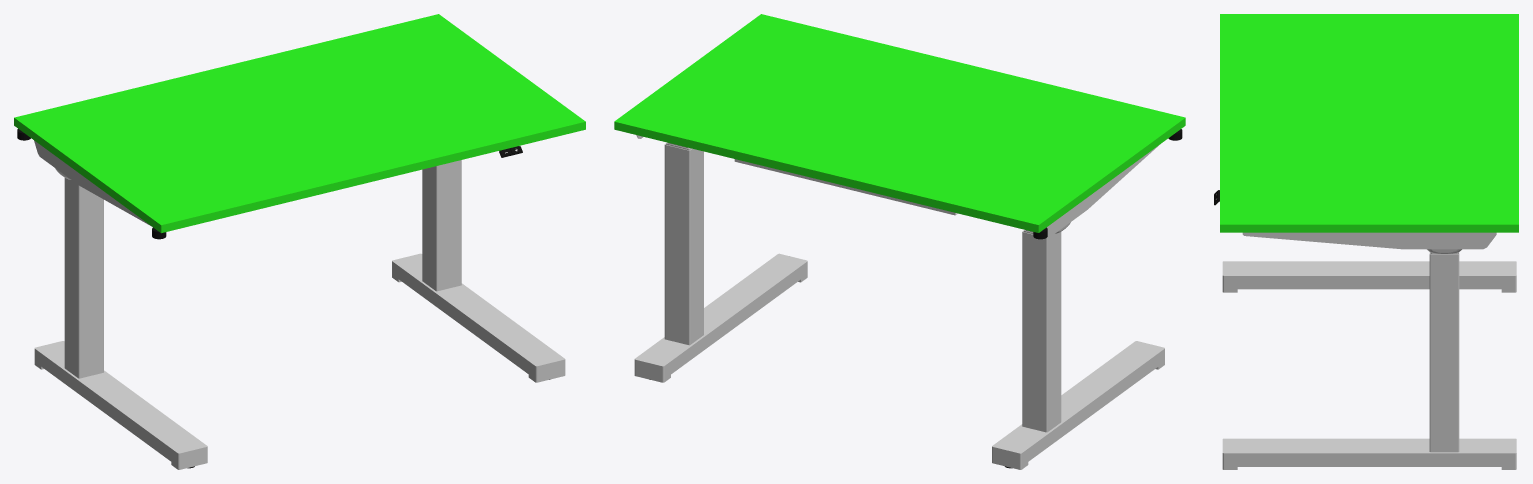
The model's file is Desk_Compact_Drive.fbx.
3 renders of one model, left to right at view 1: azimuth 30°, elevation 25°; view 2: azimuth 150°, elevation 25°; view 3: azimuth 270°, elevation 25°, orthographic.
Parts seen in each view (by area): view 1: a1#blat#$con|0|CDR60#$top|1, a3#frame#$con|0|CDR60#$frame|1, a2#obrzeze#$con|0|CDR60#$edge|1, a4#frame#$con|0|CDR60#$frame|1; view 2: a1#blat#$con|0|CDR60#$top|1, a3#frame#$con|0|CDR60#$frame|1, a2#obrzeze#$con|0|CDR60#$edge|1, a4#frame#$con|0|CDR60#$frame|1; view 3: a1#blat#$con|0|CDR60#$top|1, a3#frame#$con|0|CDR60#$frame|1, a4#frame#$con|0|CDR60#$frame|1, a2#obrzeze#$con|0|CDR60#$edge|1.
Part boxes in pixels (left/top/right/bottom): a1#blat#$con|0|CDR60#$top|1: left=14, top=14, right=585, bottom=225; a3#frame#$con|0|CDR60#$frame|1: left=34, top=160, right=565, bottom=469; a2#obrzeze#$con|0|CDR60#$edge|1: left=14, top=118, right=585, bottom=233; a4#frame#$con|0|CDR60#$frame|1: left=34, top=140, right=151, bottom=226; a1#blat#$con|0|CDR60#$top|1: left=614, top=14, right=1185, bottom=224; a3#frame#$con|0|CDR60#$frame|1: left=634, top=142, right=1164, bottom=469; a2#obrzeze#$con|0|CDR60#$edge|1: left=614, top=118, right=1185, bottom=232; a4#frame#$con|0|CDR60#$frame|1: left=636, top=135, right=1160, bottom=238; a1#blat#$con|0|CDR60#$top|1: left=1220, top=14, right=1518, bottom=224; a3#frame#$con|0|CDR60#$frame|1: left=1222, top=252, right=1516, bottom=469; a4#frame#$con|0|CDR60#$frame|1: left=1242, top=232, right=1496, bottom=249; a2#obrzeze#$con|0|CDR60#$edge|1: left=1220, top=224, right=1518, bottom=232.
Size of the model in its own units: 100 by 56.77 by 61.07.
